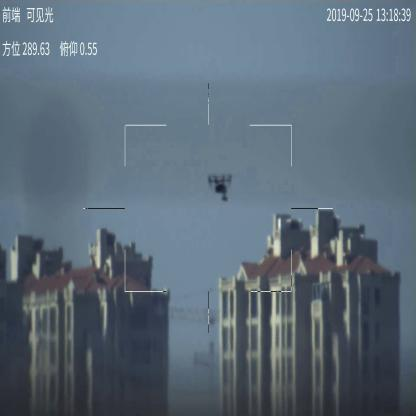uav: (206, 171, 232, 201)
